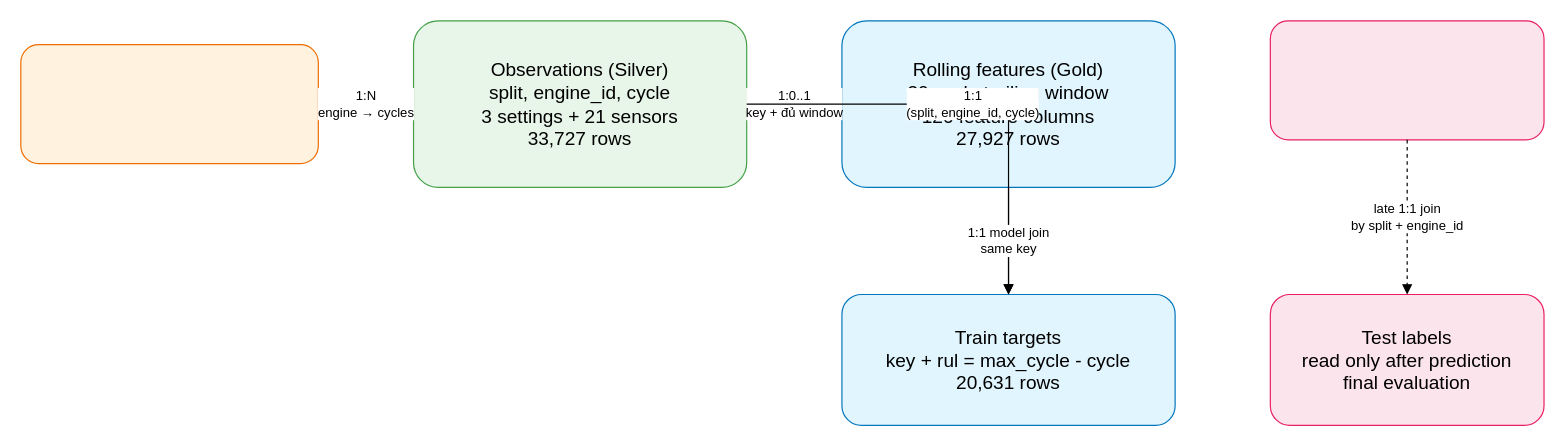
Image size: 1565x446. Some labels were removed from this diagram. The centre of each missing label's shape, as x and y in pixels:
Engine summary split, engine_id n_cycles, first_cycle, last_cycle: (169,103)
Final predictions one row per test engine: (1406,80)
